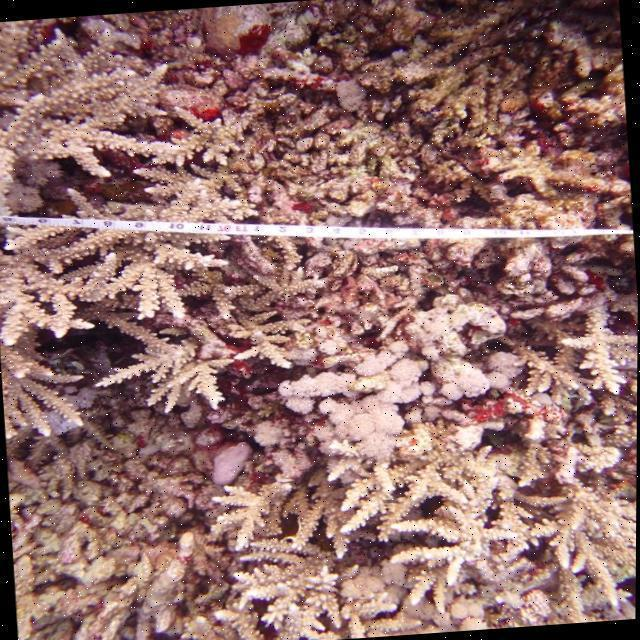Healthy Coral: (0, 240, 188, 328)
